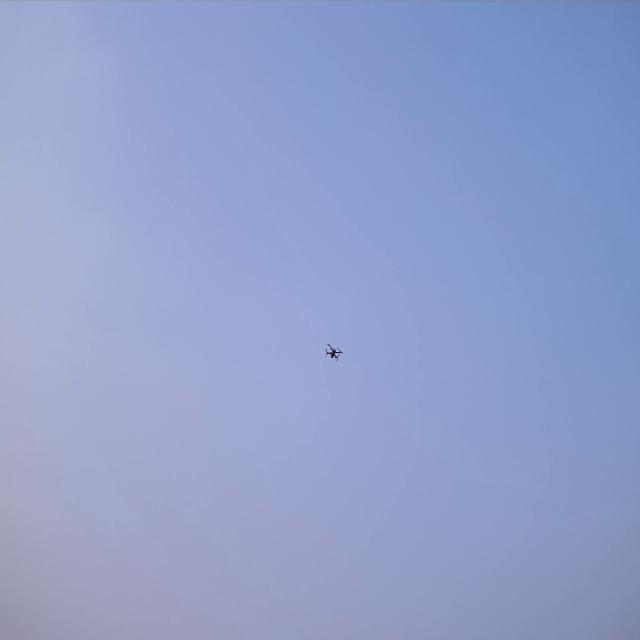UAV: (325, 338, 343, 362)
